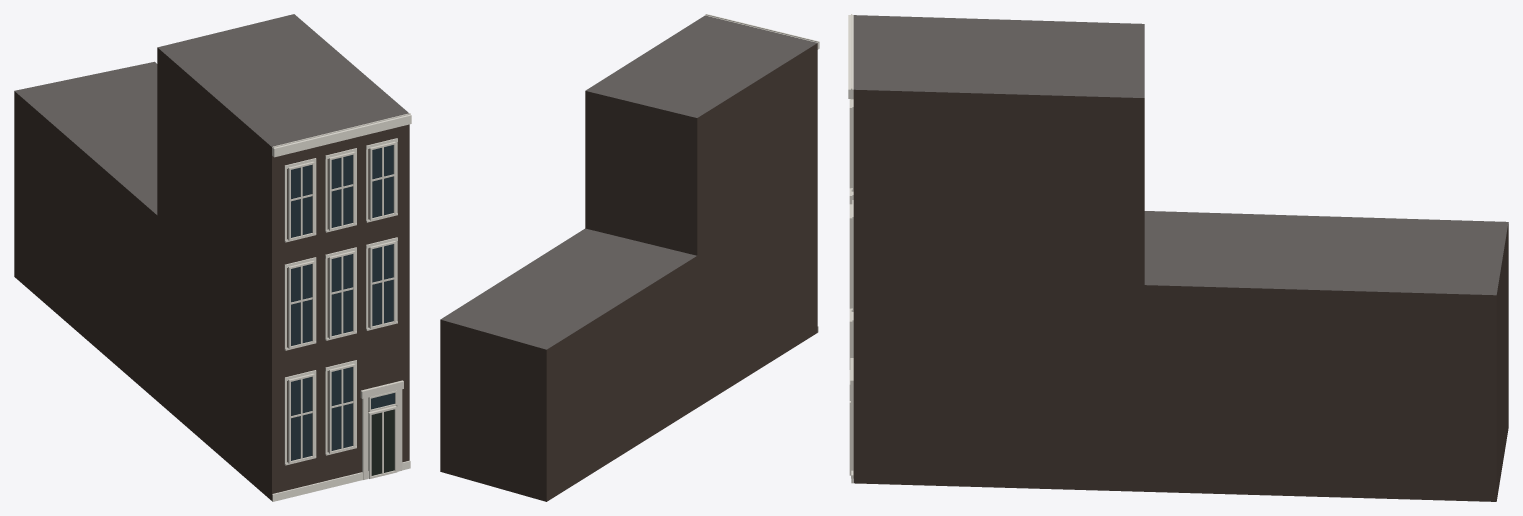
The picture shows the model from 3 angles, left to right: view 1: azimuth 30°, elevation 25°; view 2: azimuth 150°, elevation 25°; view 3: azimuth 270°, elevation 25°; orthographic projection. The views are drawn at different scales.
Visible parts, largest first — view 1: spec-0363100012177190; view 2: spec-0363100012177190; view 3: spec-0363100012177190.
Boxes of the visible parts, bbox=[...] form: spec-0363100012177190: bbox=[14, 14, 411, 501]; spec-0363100012177190: bbox=[440, 14, 819, 501]; spec-0363100012177190: bbox=[848, 14, 1508, 501].
Size of the model in its own units: 7.39 by 14.6 by 22.12.
